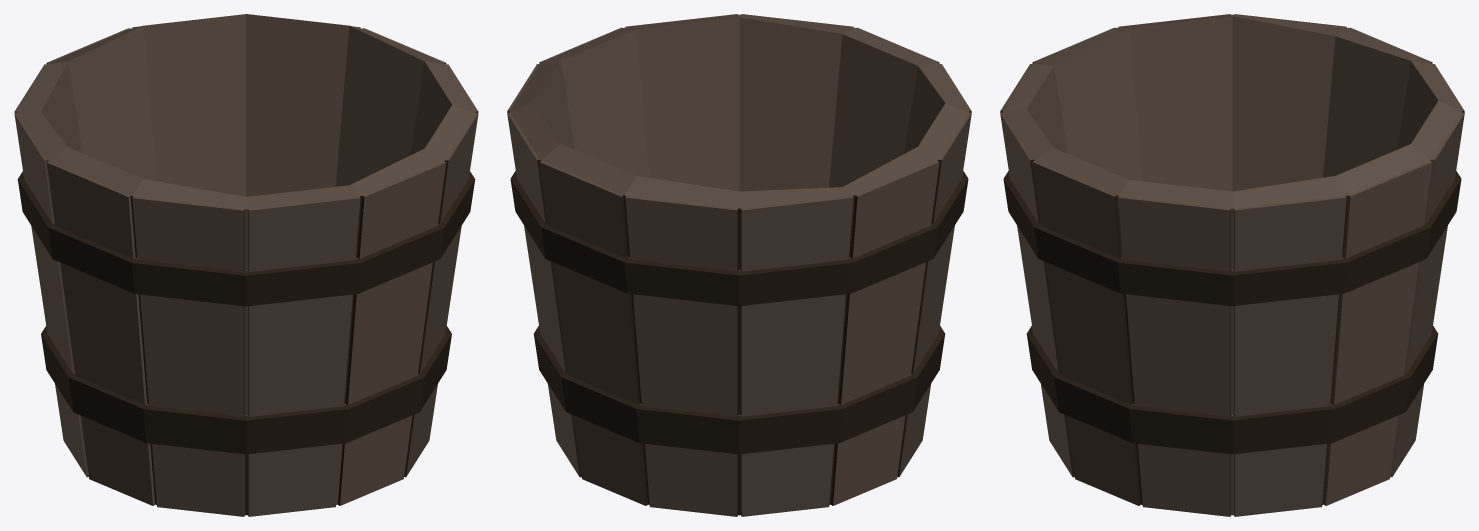
File: Bucket.fbx
3 renders of one model, left to right at view 1: azimuth 30°, elevation 25°; view 2: azimuth 150°, elevation 25°; view 3: azimuth 270°, elevation 25°, orthographic.
Parts seen in each view (by area): view 1: Bucket.002; view 2: Bucket.002; view 3: Bucket.002.
Boxes of the visible parts, x1=… form: Bucket.002: x1=14, y1=14, x2=478, y2=516; Bucket.002: x1=507, y1=14, x2=971, y2=516; Bucket.002: x1=1000, y1=14, x2=1464, y2=516.
Bounding box in the file's own units: 0.8683 × 0.6992 × 0.8683.
